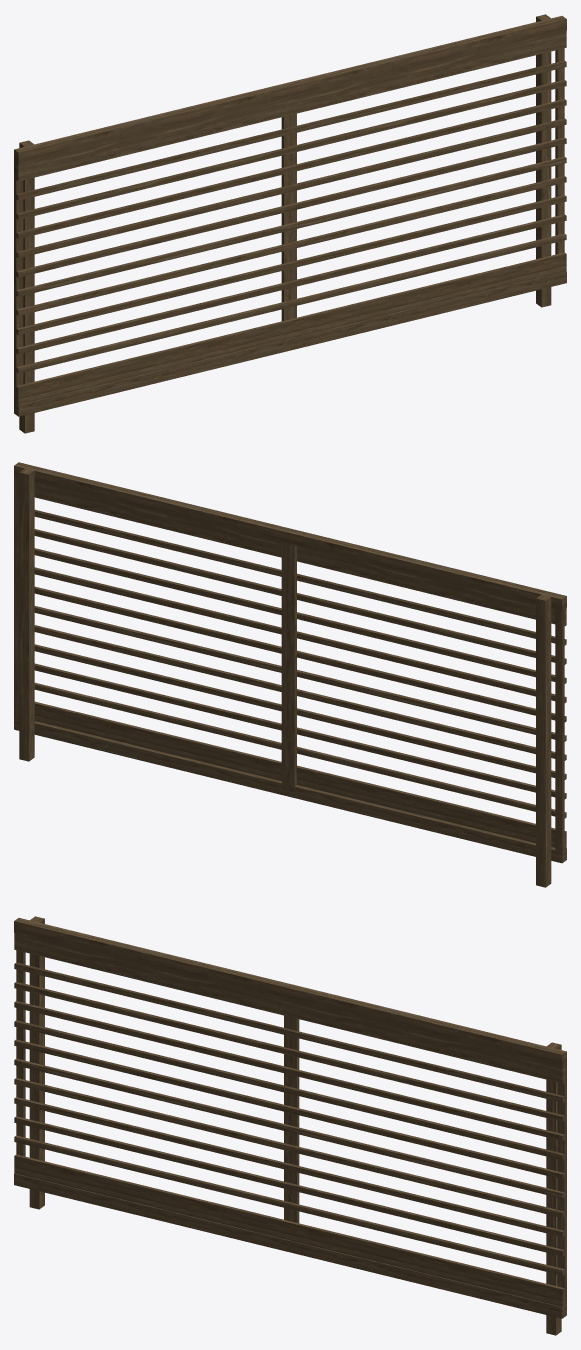
File: EAFyokoitagoushi_w1998-h920_brownebony.fbx
The picture shows the model from 3 angles, top to bottom: view 1: azimuth 30°, elevation 25°; view 2: azimuth 150°, elevation 25°; view 3: azimuth 330°, elevation 25°; orthographic projection.
Parts seen in each view (by area): view 1: EAFyokoitagoushi_w1998-h920_brownebony; view 2: EAFyokoitagoushi_w1998-h920_brownebony; view 3: EAFyokoitagoushi_w1998-h920_brownebony.
Boxes of the visible parts, bbox=[...] form: EAFyokoitagoushi_w1998-h920_brownebony: bbox=[14, 14, 566, 433]; EAFyokoitagoushi_w1998-h920_brownebony: bbox=[14, 462, 566, 887]; EAFyokoitagoushi_w1998-h920_brownebony: bbox=[14, 916, 566, 1335].
Bounding box in the file's own units: 200 × 100 × 6.5.
1 material, 1 textured.
